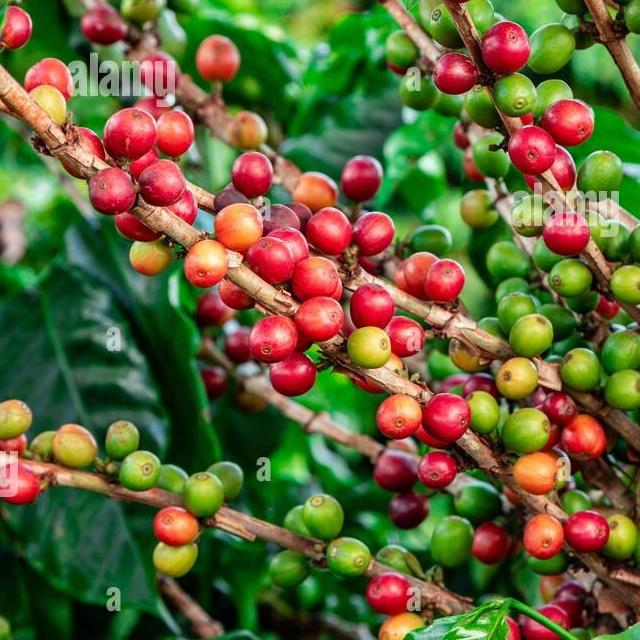cam: (185, 239, 238, 295), (49, 425, 106, 467), (344, 324, 393, 366), (569, 415, 611, 463), (211, 209, 266, 245), (380, 401, 433, 438), (234, 108, 276, 154), (519, 453, 558, 498), (159, 507, 203, 546), (33, 86, 75, 126), (523, 519, 566, 558), (376, 608, 426, 640), (135, 240, 178, 275), (298, 174, 338, 211), (0, 402, 34, 443)
do: (85, 174, 144, 216), (363, 568, 418, 613), (336, 157, 392, 201), (490, 19, 531, 76), (192, 34, 242, 80), (138, 161, 188, 207), (107, 110, 155, 157), (312, 207, 358, 254), (474, 524, 518, 572), (233, 153, 277, 201), (433, 391, 472, 445), (252, 315, 302, 357), (517, 121, 555, 176), (297, 298, 345, 341), (545, 216, 596, 256), (78, 7, 128, 47), (552, 101, 596, 146), (292, 255, 340, 296), (275, 356, 319, 397), (386, 490, 431, 530), (431, 259, 470, 305), (548, 140, 582, 192), (378, 454, 424, 491), (357, 213, 396, 255), (436, 55, 480, 92), (258, 240, 296, 282), (356, 284, 395, 324), (162, 110, 194, 158), (574, 510, 608, 554), (559, 593, 601, 628), (0, 0, 31, 47), (526, 602, 564, 640), (32, 63, 76, 94), (273, 222, 310, 258), (390, 317, 425, 353), (421, 452, 458, 486), (405, 258, 439, 294), (9, 469, 43, 505), (144, 64, 182, 95), (262, 205, 295, 231), (549, 392, 575, 422), (286, 200, 312, 226)
xanh: (431, 513, 474, 572), (528, 26, 576, 73), (582, 152, 627, 198), (496, 357, 543, 401), (456, 482, 506, 523), (151, 536, 201, 576), (183, 473, 225, 520), (513, 314, 553, 360), (326, 535, 372, 575), (372, 542, 426, 576), (486, 240, 531, 278), (508, 410, 550, 450), (461, 188, 501, 230), (498, 76, 537, 119), (206, 459, 245, 502), (564, 348, 602, 392), (471, 133, 506, 180), (491, 290, 536, 326), (401, 75, 442, 113), (122, 454, 162, 492), (472, 392, 504, 438), (427, 6, 462, 48), (309, 497, 346, 536), (605, 328, 640, 368), (611, 366, 640, 414), (408, 226, 456, 254), (274, 548, 306, 588), (554, 262, 590, 297), (106, 422, 140, 458), (612, 262, 640, 304), (535, 80, 571, 112), (158, 465, 189, 493), (387, 38, 415, 68), (496, 277, 526, 303), (468, 3, 494, 31), (282, 509, 312, 533), (557, 0, 593, 16), (627, 3, 640, 33)
